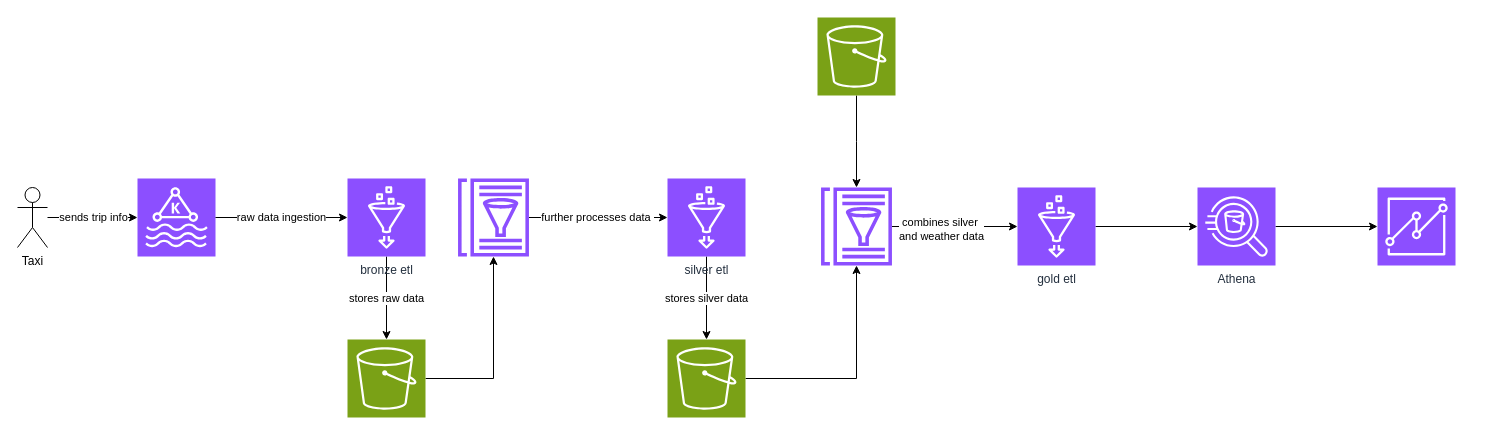
Image size: 1497x435. Some labels were removed from this diagram. Here are the shapes that lost their labels. From the top down, the centre of each, then its label:
At point 856,56: "weather data".
At point 1416,226: "further analytics via QuickSight Dashboards".
